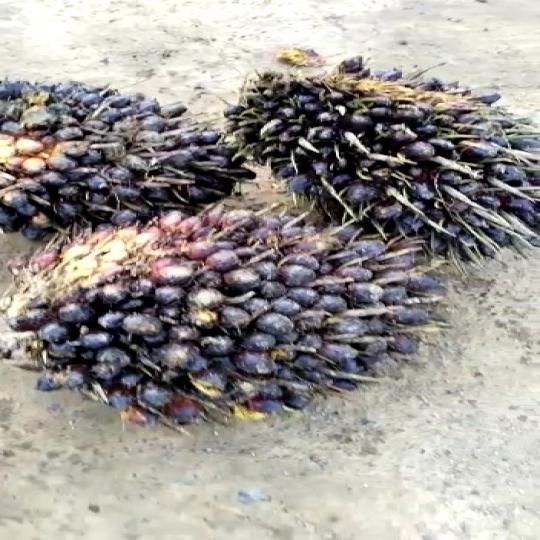mentah: (35, 226, 436, 428), (219, 46, 540, 276), (0, 59, 301, 245)
